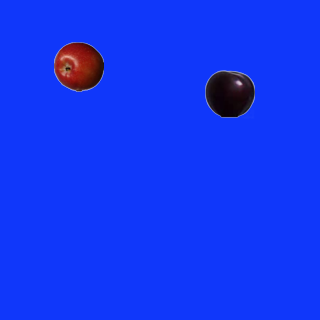Apple Braeburn: (53, 41, 103, 91)
Cherry Wax Black: (204, 68, 254, 118)
